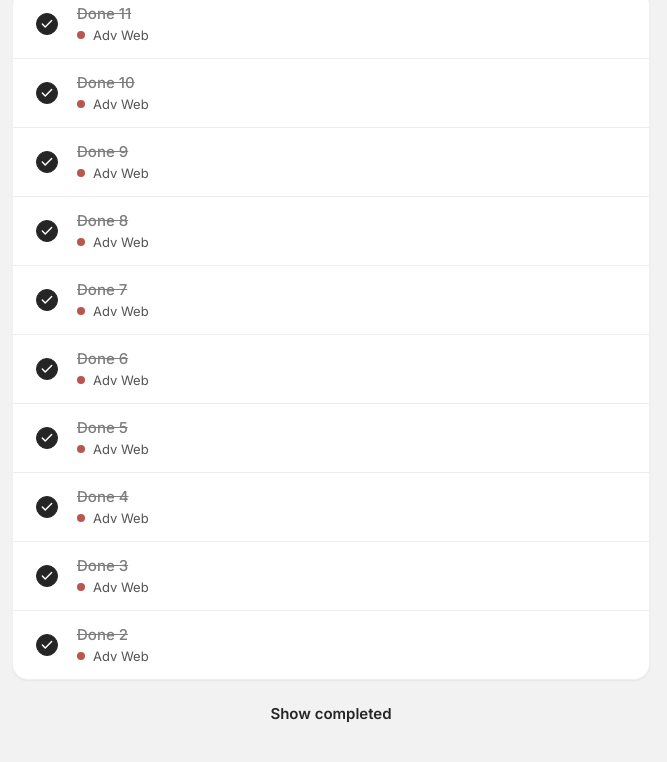
Test: ProjectScreen (PJ-2, T-PJ-10, T-PJ-11) › clicking Show completed expands list and button disappears when all are shown
(page scrolled)
Click the button "Show completed".
click(331, 714)  # box x1=12 y1=692 x2=650 y2=736
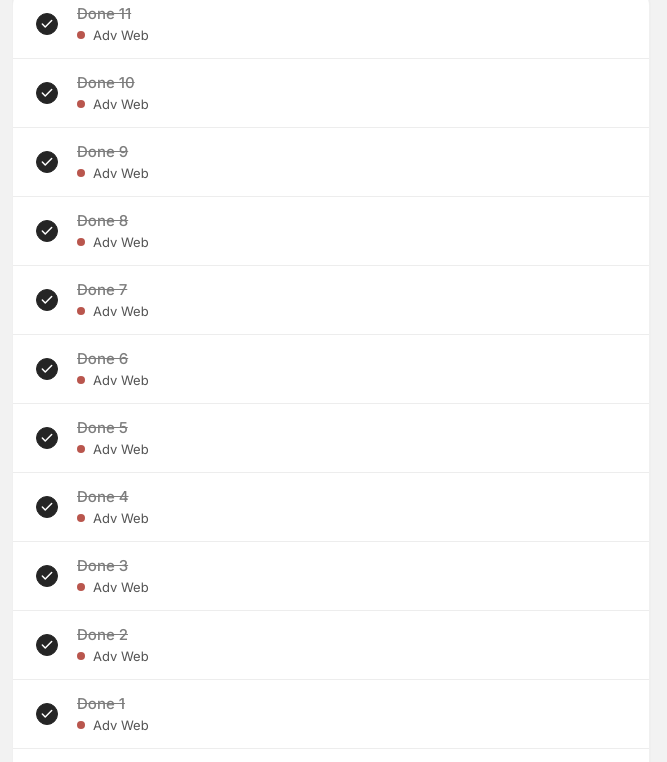
Result: the button "Show completed" is gone
